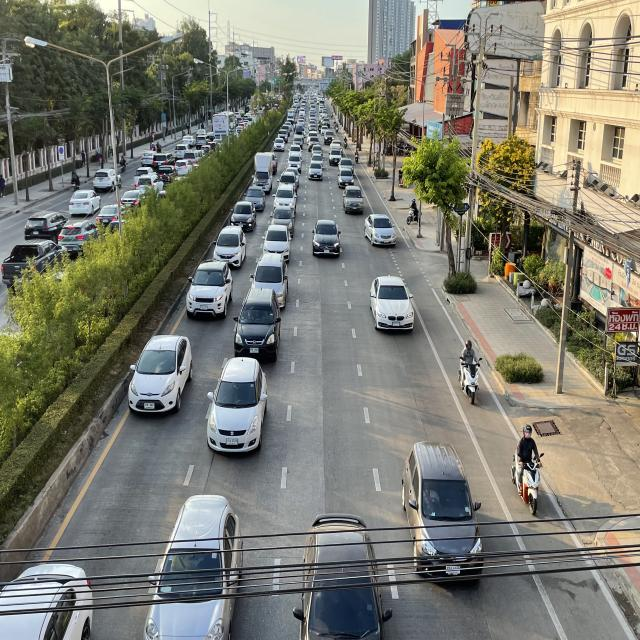bike: (511, 413, 546, 524), (455, 330, 486, 409), (403, 193, 422, 230)
